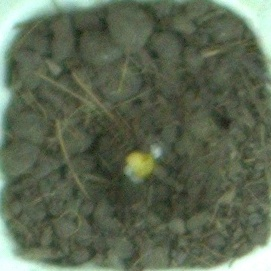pepper seed: (42, 58, 201, 244)
